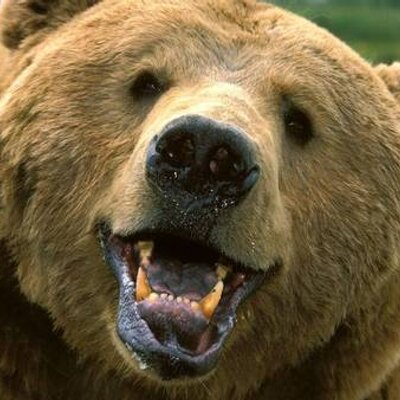bear: (1, 1, 397, 391)
